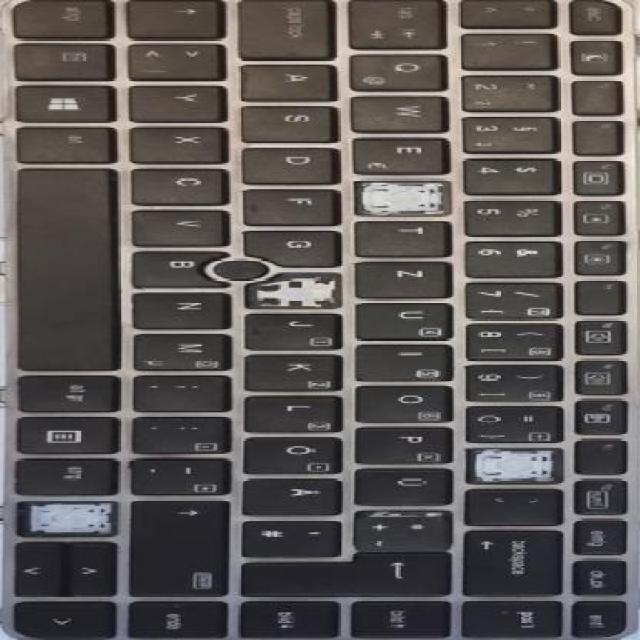Keyboard problems: (355, 180, 449, 214), (466, 449, 560, 483), (248, 274, 340, 308), (26, 503, 112, 532)
